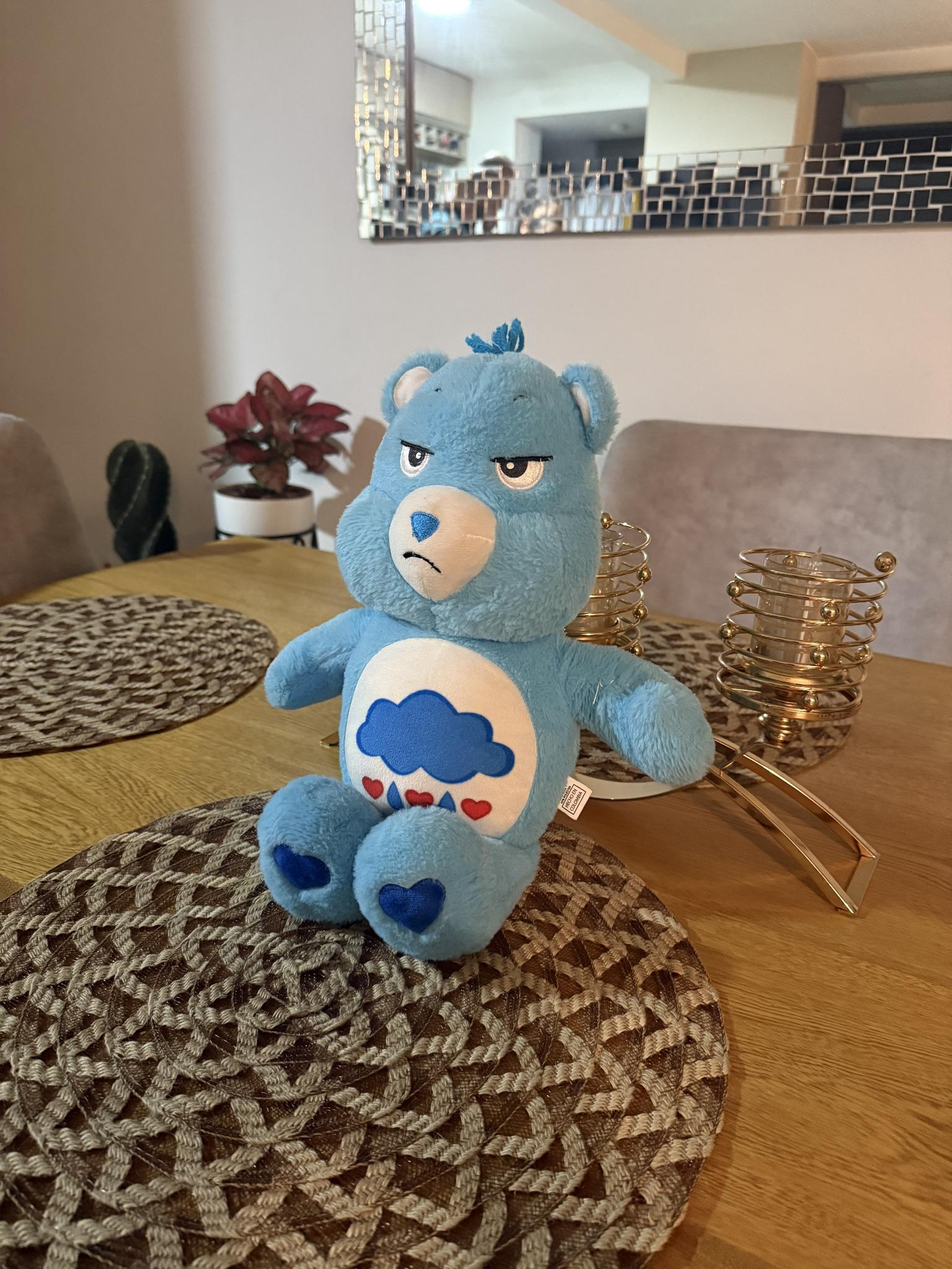peluche_Juan Jose: (244, 322, 720, 973)
